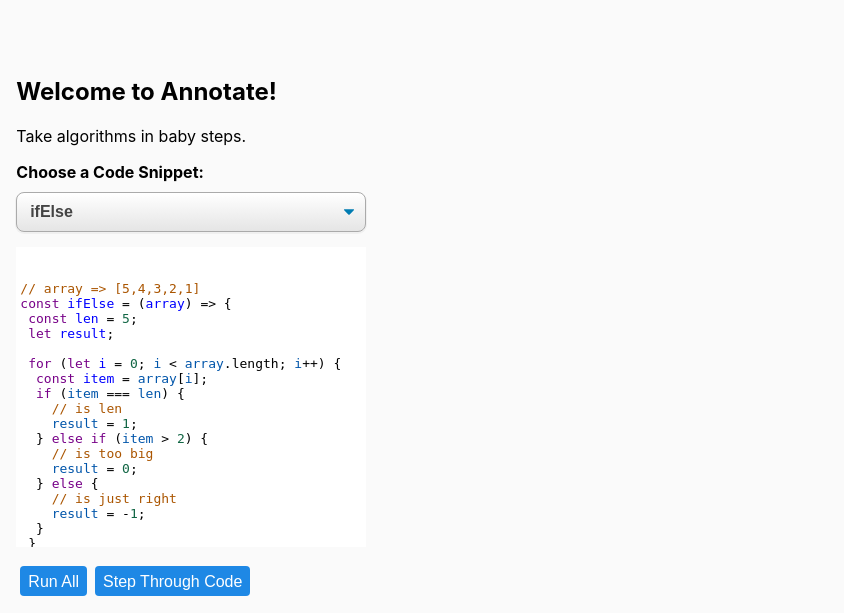
Test case: <App /> › when stepping through code › should not break the behavior of run all
Click the button "Step Through Code": coordinates (173, 581) left=95, top=566, right=250, bottom=596
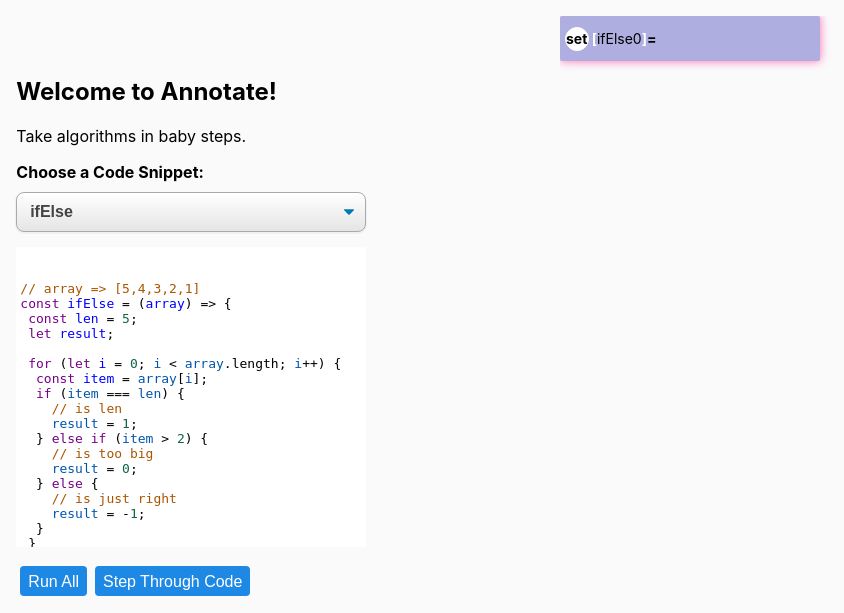
Click the button "Run All": coordinates (54, 581) left=20, top=566, right=87, bottom=596
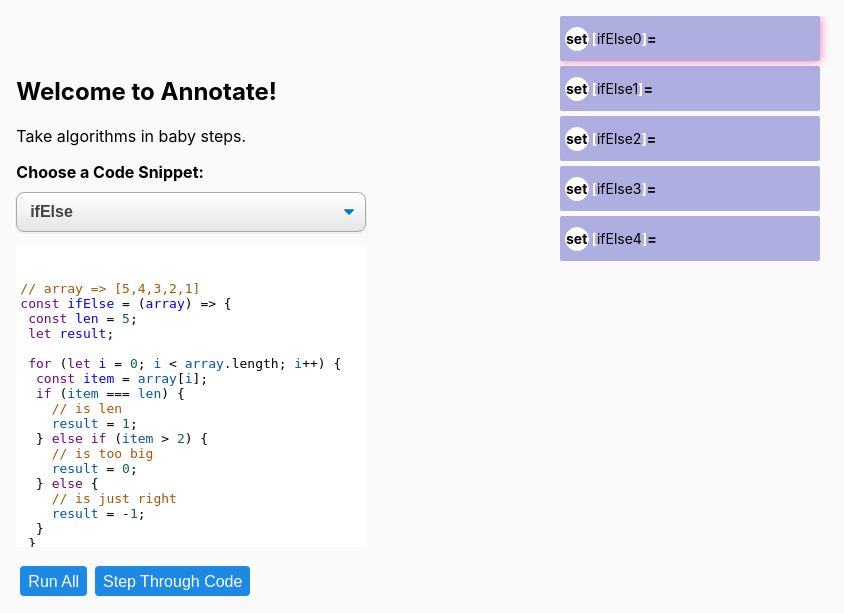
Result: the text "[ifElse4]" is shown at left=592, top=230, right=647, bottom=247
Result: the number of elements with test id "log-line" is 5 at left=560, top=16, right=820, bottom=61; left=560, top=66, right=820, bottom=111; left=560, top=116, right=820, bottom=161; left=560, top=166, right=820, bottom=211; left=560, top=216, right=820, bottom=261
